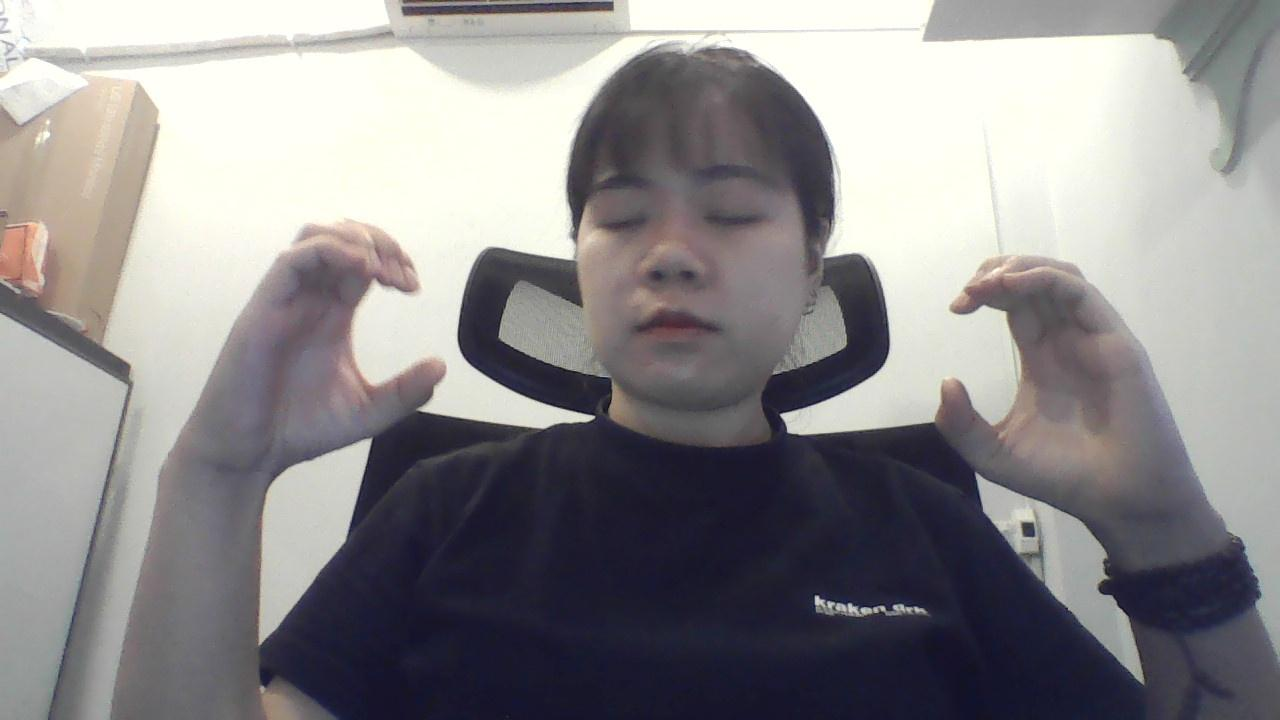C: (907, 232, 1206, 544), (155, 194, 455, 492)
